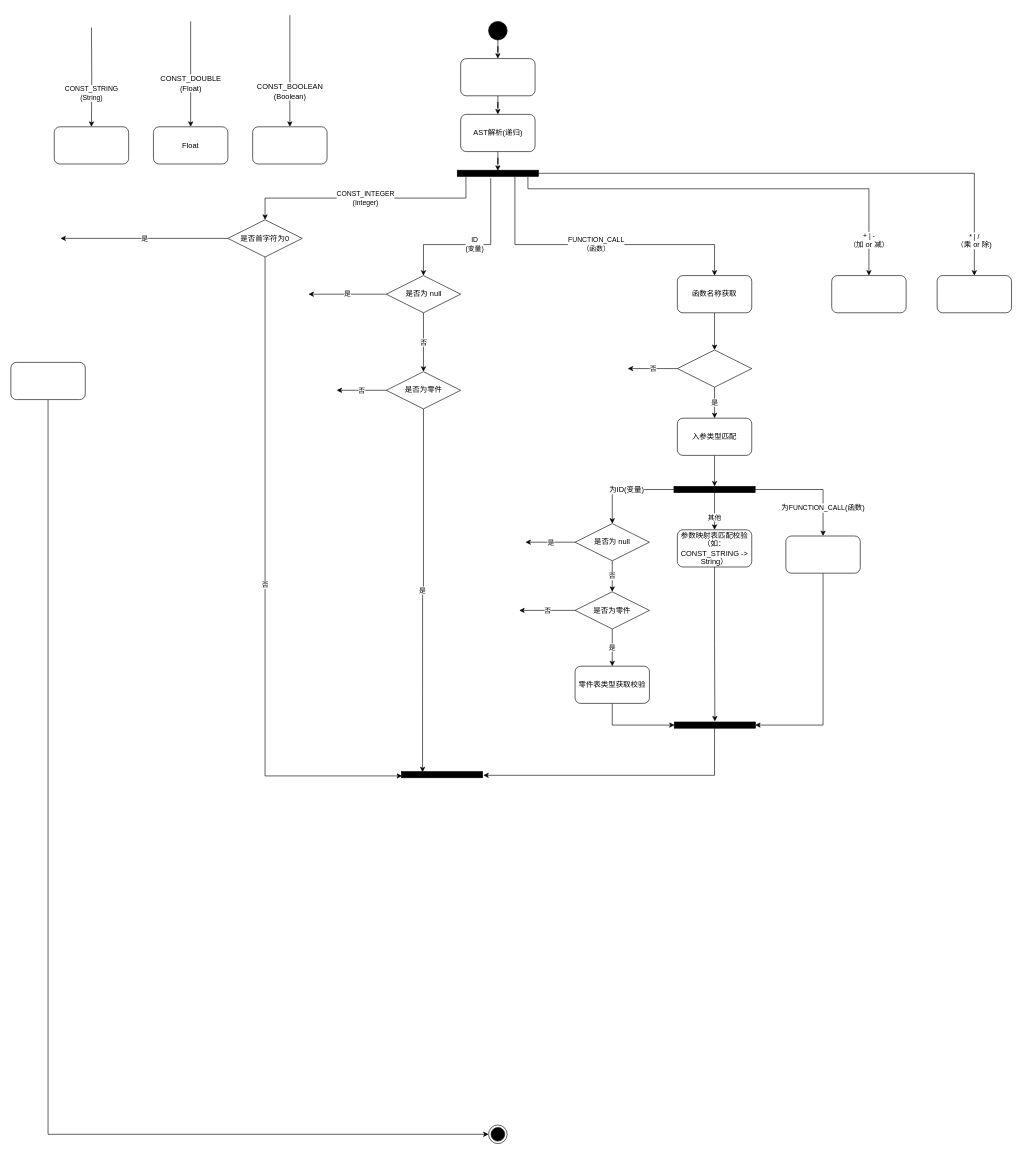
Image size: 1022x1154. Some labels were removed from this diagram. The shapes that lost their labels are listed below. From the top down, each one's centre as x and y in pixels, then its label:
At [497,77]: "规则引擎解析文本生成AST".
At [91,145]: "String".
At [289,145]: "Boolean".
At [47,381]: "返回相对应错误".
At [714,368]: "判断函数入参个数是否一致".
At [822,554]: "函数类型表函数返回类型获取校验".
